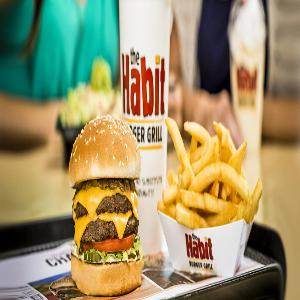cheeseburger: (64, 111, 150, 290)
fries: (157, 104, 268, 249)
